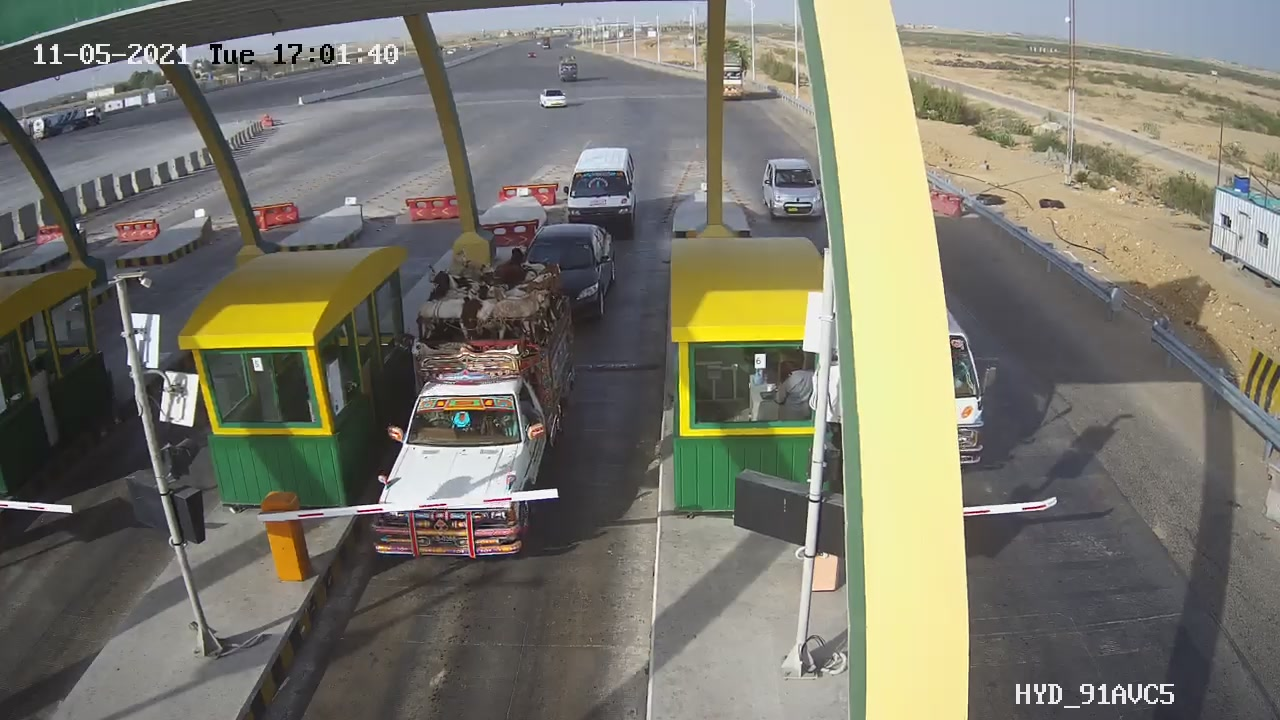F1: (357, 244, 587, 574)
F2: (556, 139, 656, 249)
